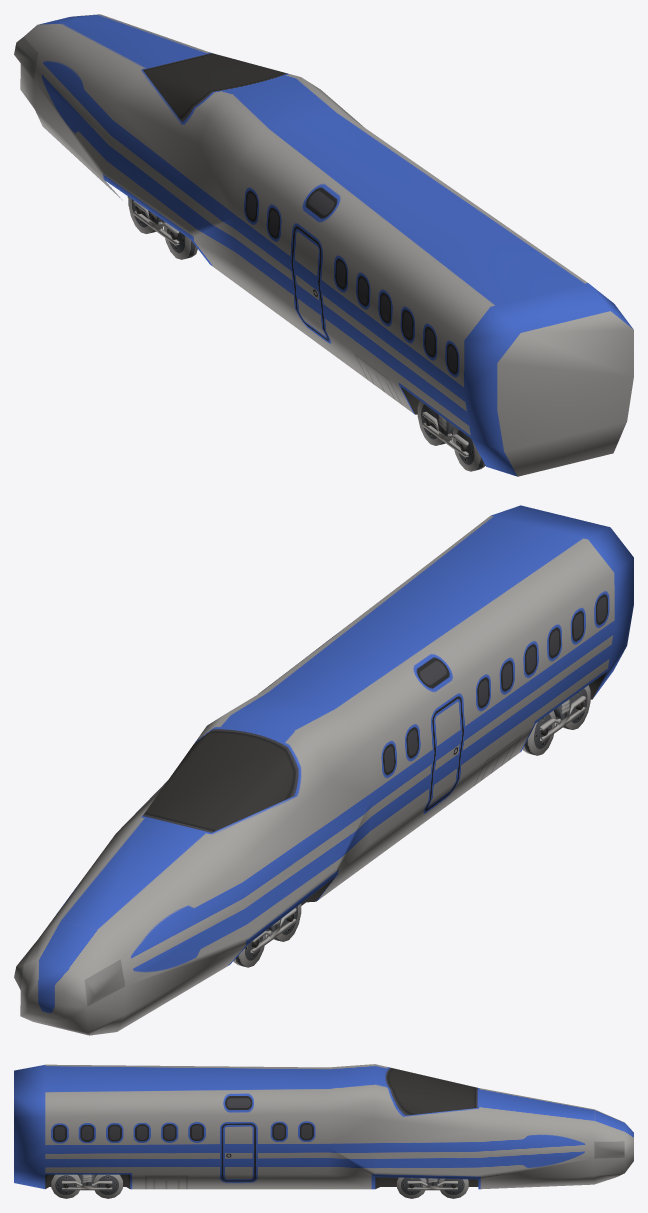
The model's file is RailwayCarriageRear.glb.
3 renders of one model, top to bottom at view 1: azimuth 30°, elevation 25°; view 2: azimuth 150°, elevation 25°; view 3: azimuth 270°, elevation 25°, orthographic. The views are drawn at different scales.
Visible parts, largest first — view 1: Railway_carriage_d, Wheel_b; view 2: Railway_carriage_d; view 3: Railway_carriage_d, Wheel_f, Wheel_e, Wheel_h, Wheel_g.
Boxes of the visible parts, <box> form: Railway_carriage_d: <box>14,14,633,476</box>; Wheel_b: <box>453,427,485,471</box>; Railway_carriage_d: <box>14,505,633,1035</box>; Railway_carriage_d: <box>14,1064,633,1190</box>; Wheel_f: <box>51,1174,81,1198</box>; Wheel_e: <box>93,1174,122,1198</box>; Wheel_h: <box>397,1177,426,1198</box>; Wheel_g: <box>439,1178,468,1198</box>.
Size of the model in its own units: 99.25 by 114 by 592.
1 material, 1 textured.
